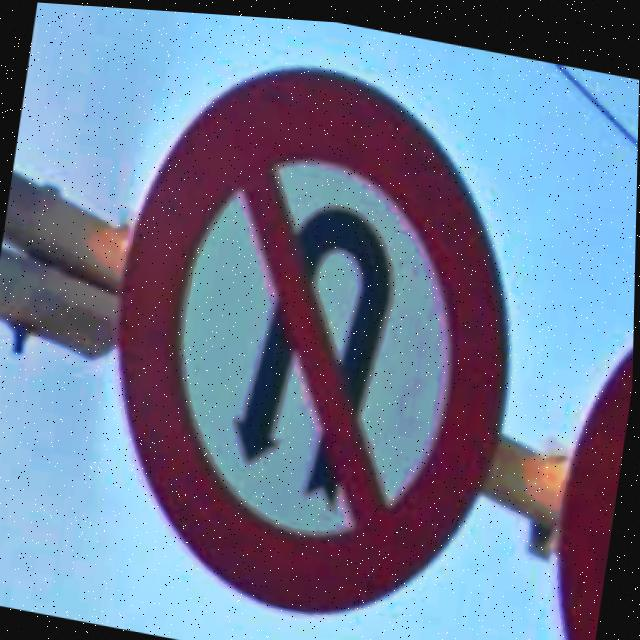nouturn: (116, 62, 511, 613)
